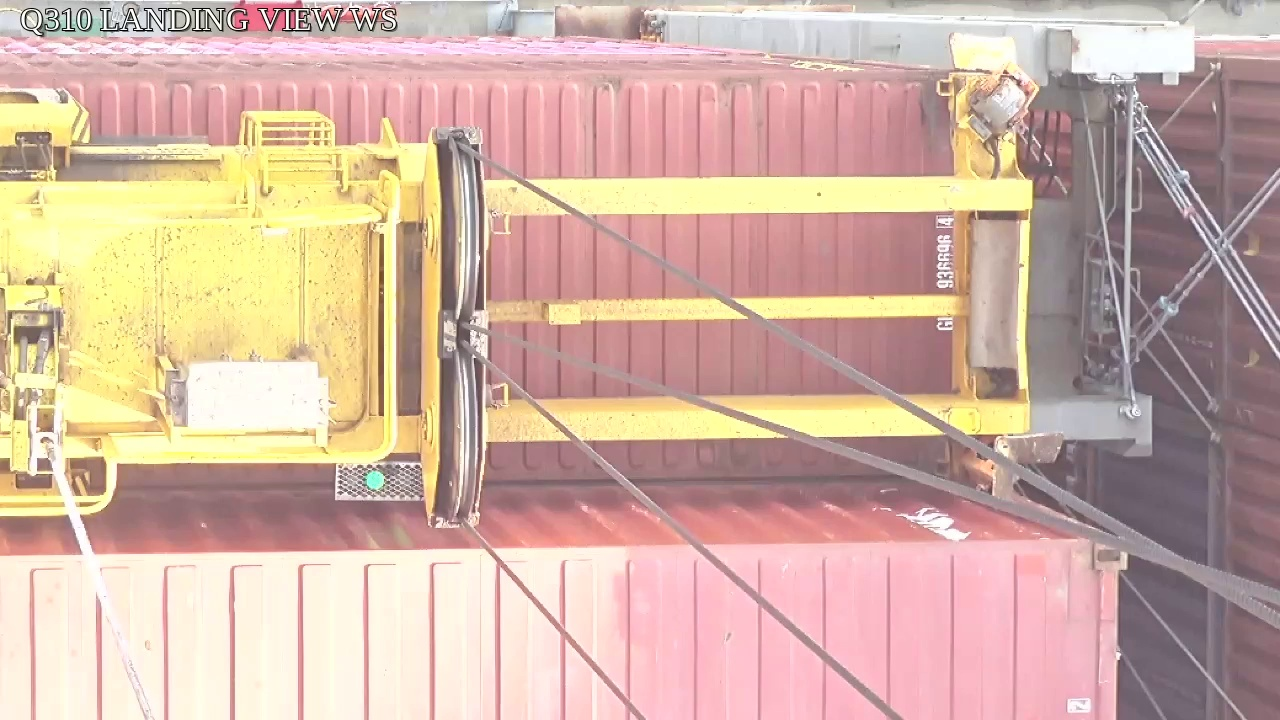right: (418, 125, 487, 532)
